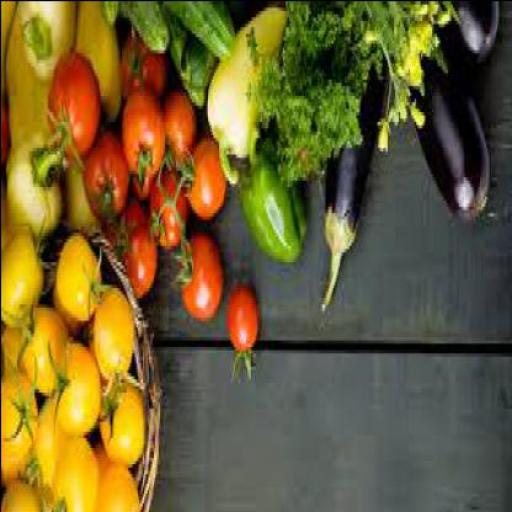biodegradable: (242, 3, 378, 193), (318, 58, 386, 317), (356, 3, 458, 157), (406, 40, 486, 222), (204, 10, 285, 189), (239, 140, 305, 271), (72, 3, 120, 127), (44, 56, 98, 166), (3, 140, 59, 242), (3, 16, 47, 144), (11, 4, 71, 85), (96, 378, 148, 470), (106, 202, 154, 300), (30, 397, 72, 506), (1, 224, 43, 330), (50, 346, 98, 437), (80, 134, 128, 224), (162, 10, 204, 111), (120, 88, 162, 189), (431, 3, 496, 68), (49, 238, 97, 326), (162, 3, 232, 62), (18, 306, 62, 398), (173, 234, 220, 320), (92, 294, 132, 394), (50, 439, 98, 511), (181, 140, 223, 222), (1, 367, 36, 464), (226, 284, 258, 384), (117, 33, 162, 104), (146, 172, 184, 251), (160, 94, 194, 180), (116, 4, 166, 55), (178, 36, 215, 91), (93, 472, 138, 510), (1, 2, 16, 95), (50, 291, 76, 342), (1, 478, 42, 510), (0, 329, 26, 375), (127, 176, 151, 208), (1, 460, 30, 482), (97, 3, 116, 29), (90, 444, 108, 470), (1, 98, 6, 168)
